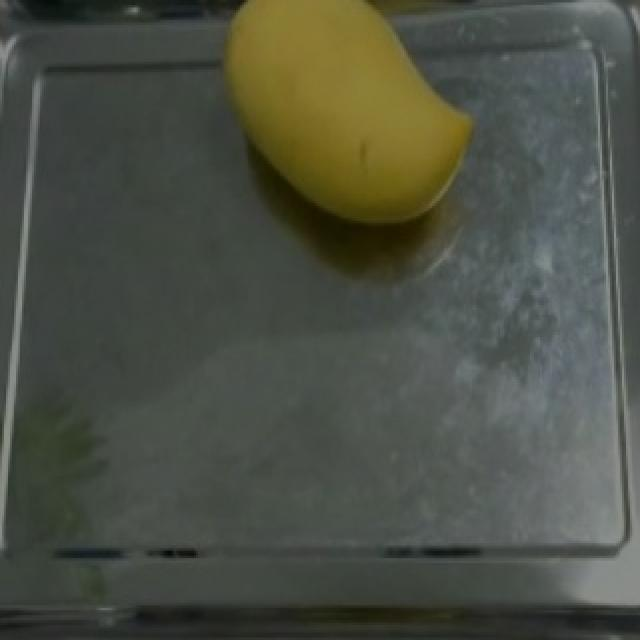fruit: (202, 0, 504, 248)
